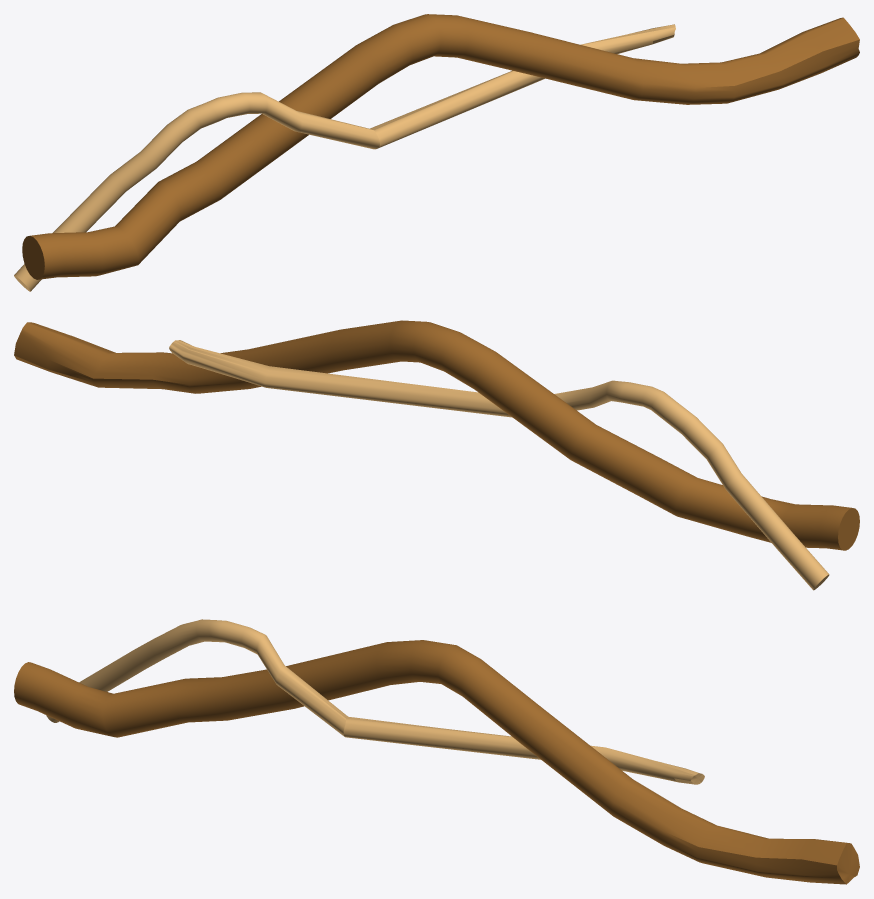
File: vines01.fbx
3 renders of one model, top to bottom at view 1: azimuth 30°, elevation 25°; view 2: azimuth 150°, elevation 25°; view 3: azimuth 330°, elevation 25°, orthographic. The views are drawn at different scales.
Visible parts, largest first — view 1: pCylinder1, pCylinder2; view 2: pCylinder1, pCylinder2; view 3: pCylinder1, pCylinder2.
Boxes of the visible parts, <box> form: pCylinder1: <box>22,14,859,279</box>; pCylinder2: <box>14,24,675,291</box>; pCylinder1: <box>14,320,859,550</box>; pCylinder2: <box>169,340,829,590</box>; pCylinder1: <box>14,640,859,884</box>; pCylinder2: <box>46,619,704,784</box>.
Size of the model in its own units: 5.12 by 1.03 by 0.5031.
